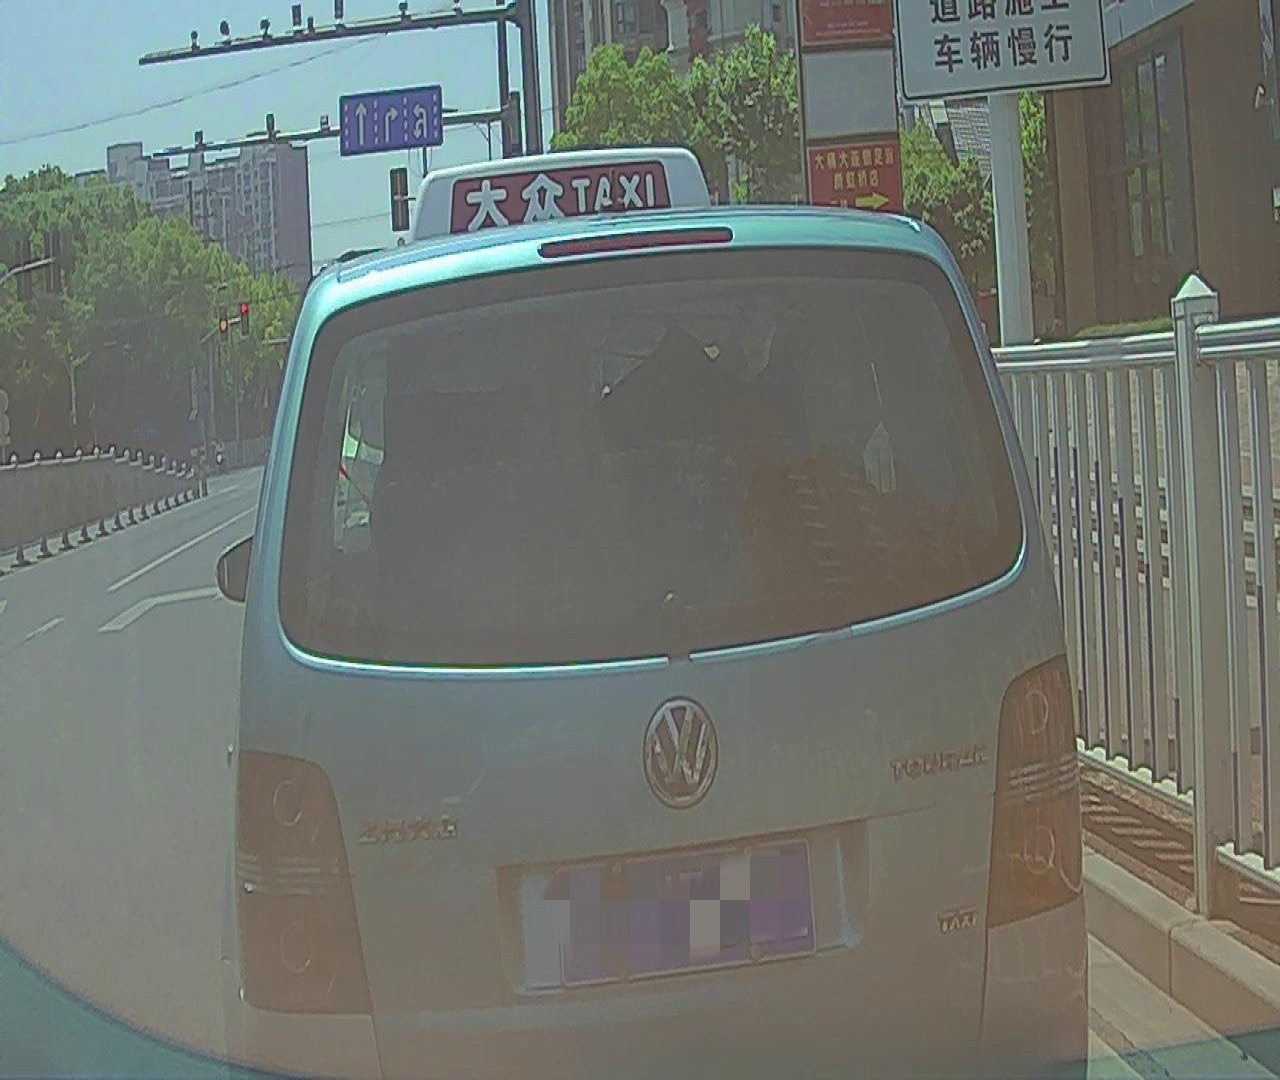red: (239, 303, 247, 336)
yellow: (219, 307, 228, 340)
